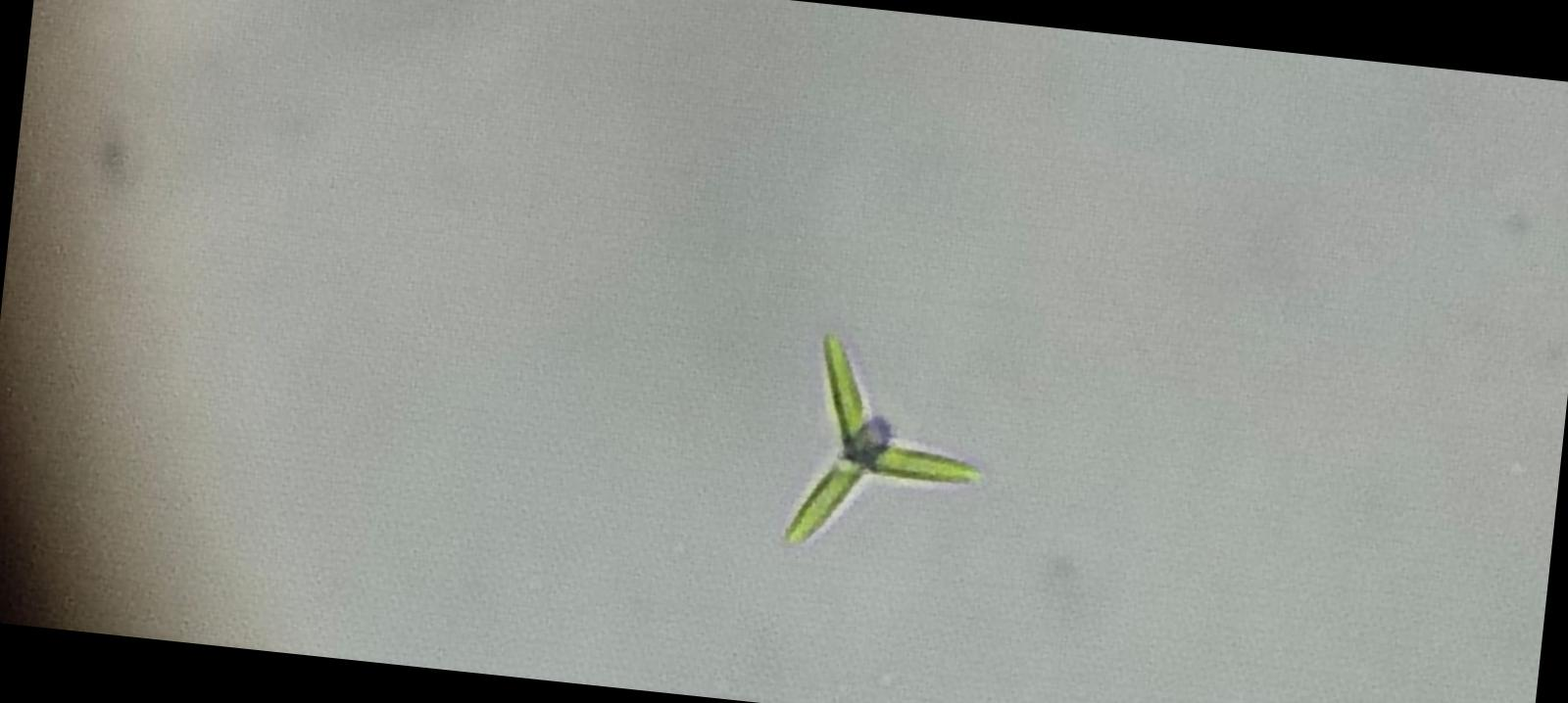Scenedesmus: (769, 312, 1015, 580)
